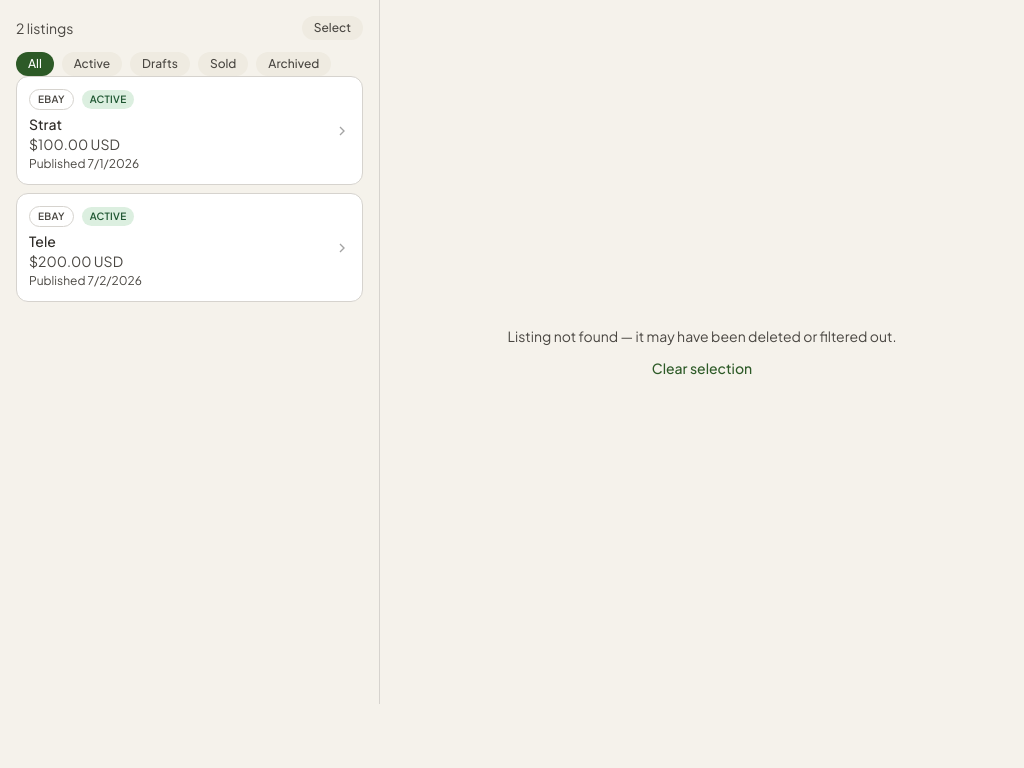
Test: Listings workbench (lg master-detail) › shows a not-found state for an unknown ?listing= deep link
The image size is (1024, 768).
Expected: the text "Listing not found" is shown, [508,327,896,345]
Click the button "Clear selection" at (702, 368), box [652,358,752,378]
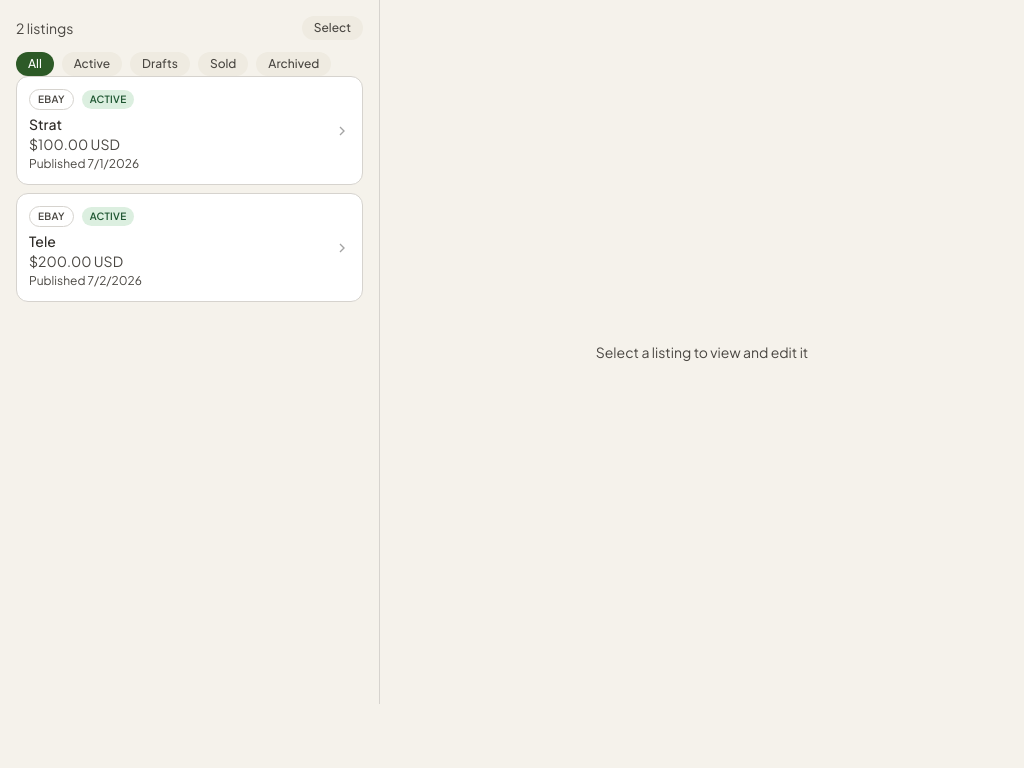
Expected: the text "Select a listing to view and edit it" is shown, [596,342,808,362]
